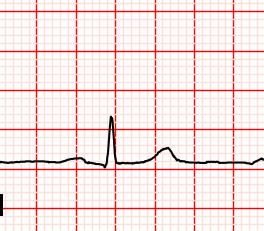LVH: (140, 143, 183, 168)
